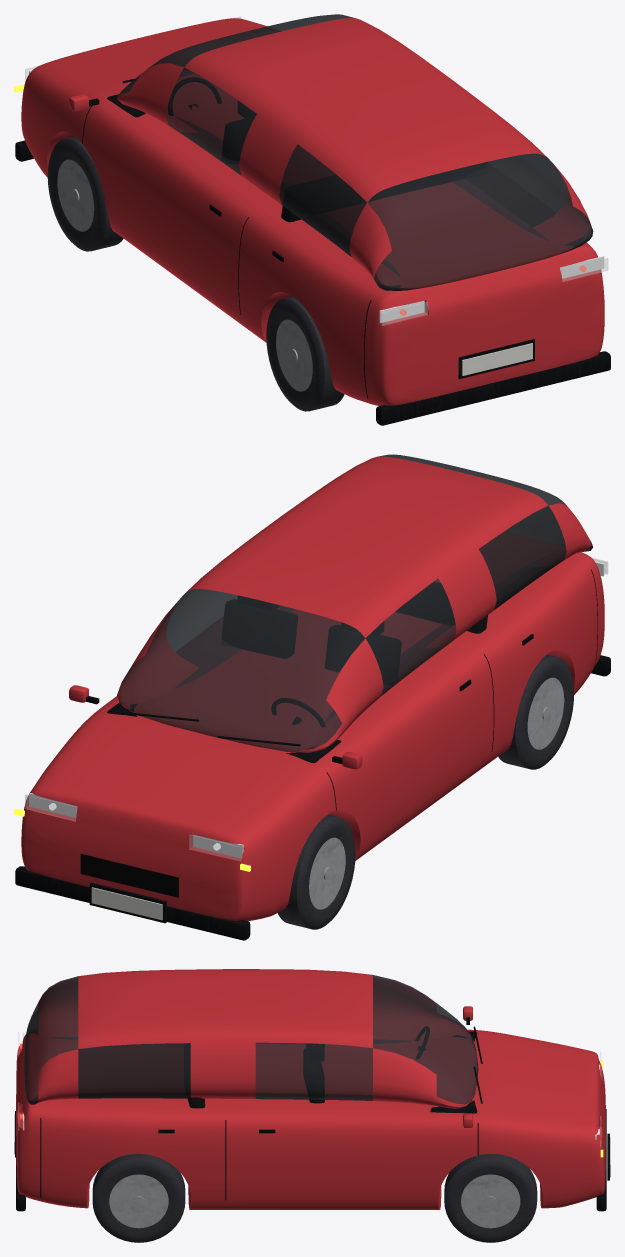
The model's file is suv_red.gltf.
The picture shows the model from 3 angles, top to bottom: view 1: azimuth 30°, elevation 25°; view 2: azimuth 150°, elevation 25°; view 3: azimuth 270°, elevation 25°; orthographic projection. The views are drawn at different scales.
Parts seen in each view (by area): view 1: suv_red; view 2: suv_red; view 3: suv_red.
Part boxes in pixels (left/top/right/bottom): suv_red: left=14, top=14, right=610, bottom=425; suv_red: left=14, top=454, right=610, bottom=940; suv_red: left=14, top=969, right=610, bottom=1242.
Size of the model in its own units: 2.14 by 1.73 by 4.75.
17 materials, 8 textured.
